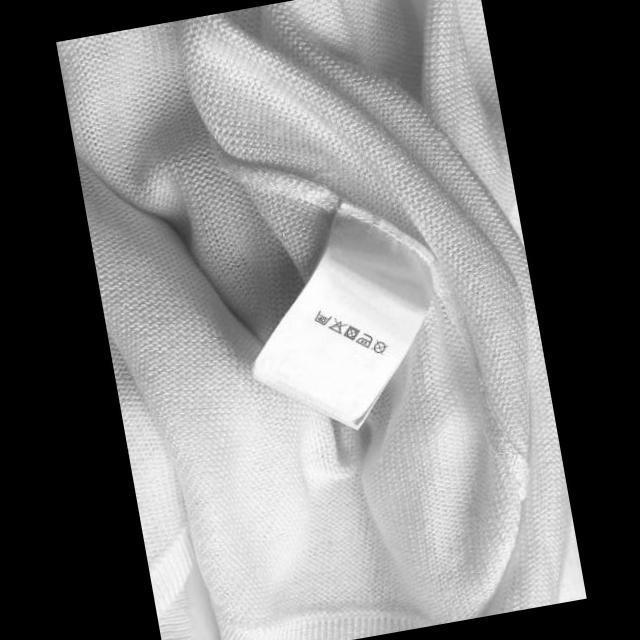40C: (310, 306, 334, 328)
DN_bleach: (326, 315, 350, 337)
DN_dry_clean: (368, 336, 390, 358)
DN_tumble_dry: (339, 322, 362, 344)
iron_medium: (351, 330, 374, 350)
